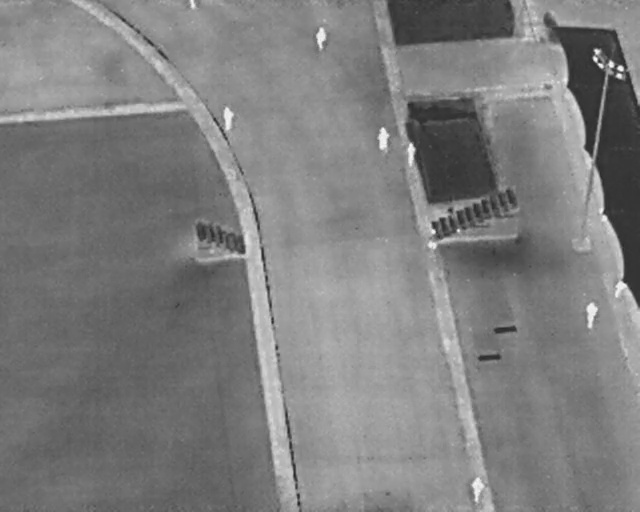Person: (584, 299, 599, 331), (375, 124, 391, 153), (220, 105, 236, 132), (471, 474, 485, 504), (314, 23, 327, 50), (188, 0, 197, 10)
